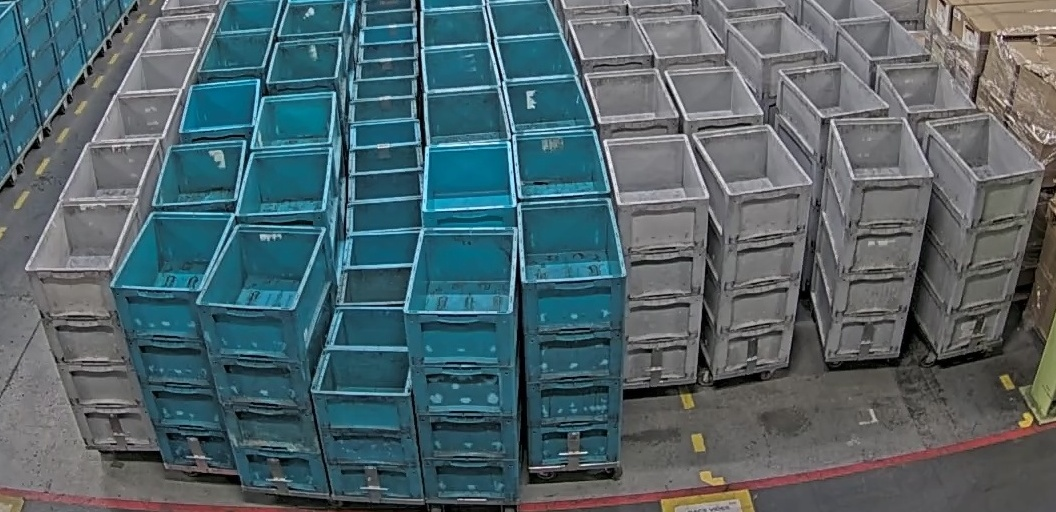4G: (25, 197, 160, 451), (912, 111, 1045, 353), (691, 124, 813, 377), (810, 117, 934, 358), (602, 134, 709, 384)
B4: (195, 223, 338, 494), (110, 211, 238, 470), (403, 228, 518, 501), (516, 197, 626, 467)
B8: (310, 307, 425, 499)
